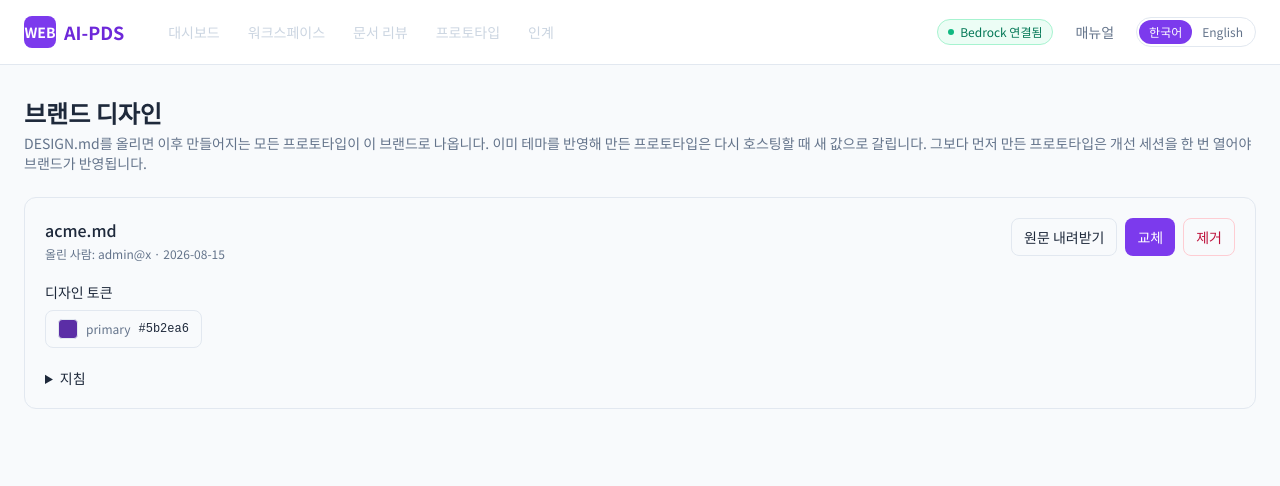
Test: admin design page › shows a delete-specific error when removal fails, not the load-failed message
Check: the text "acme.md" is shown, box [45,218,117,242]
Click the button "제거": (1209, 237) [1183,218,1235,256]
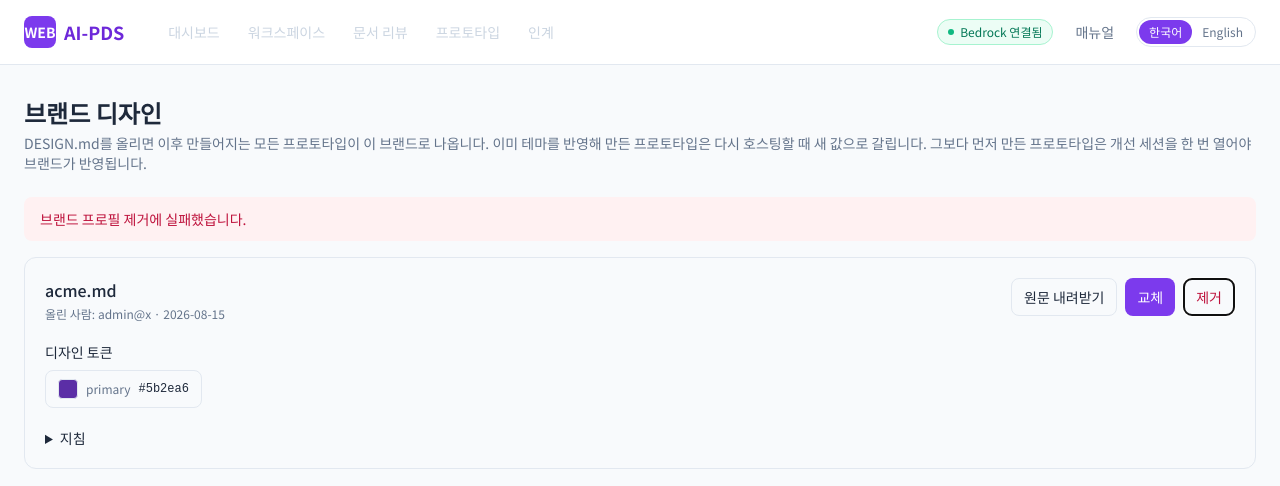
Check: the message "브랜드 프로필 제거에 실패했습니다." is shown, box [24,197,1256,241]
Check: the message reads "브랜드 프로필 제거에 실패했습니다.", box [40,209,246,229]
